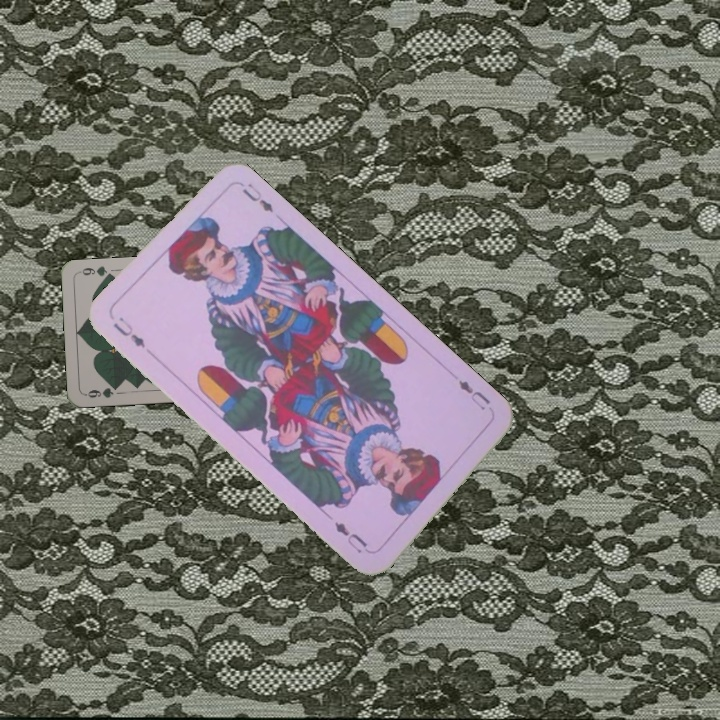EU: (454, 376, 493, 414), (109, 313, 148, 351)
G9: (82, 381, 122, 401)
